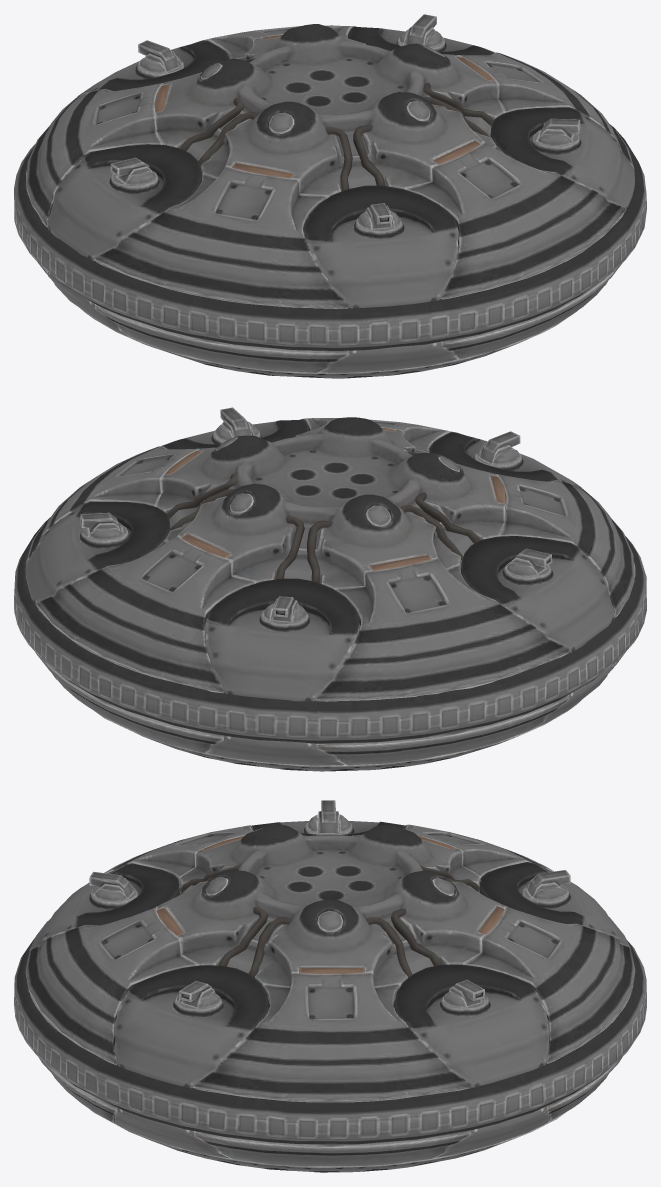
The model's file is ufo.glb.
The picture shows the model from 3 angles, top to bottom: view 1: azimuth 30°, elevation 25°; view 2: azimuth 150°, elevation 25°; view 3: azimuth 270°, elevation 25°; orthographic projection.
Size of the model in its own units: 4.23 by 1.86 by 4.23.
1 material, 1 textured.
